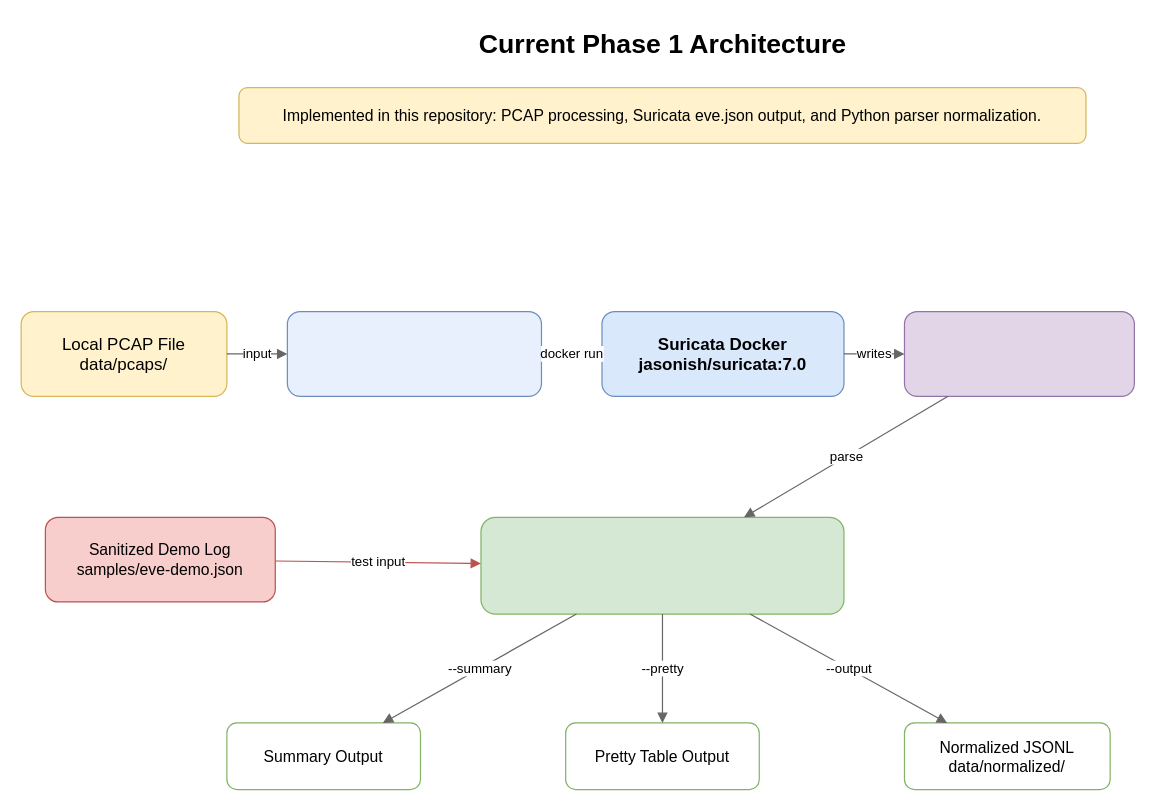
This 1156x811 diagram has some shape labels left out. Here are the shapes that lost their labels. From the top down, the box of each, then its label:
(286, 310, 541, 396): Runner Script scripts/run_suricata_pcap.sh
(903, 310, 1134, 396): eve.json data/eve-runs/{run}/
(480, 516, 844, 614): Python Parsers Flow / DNS / HTTP / TLS / Alert
